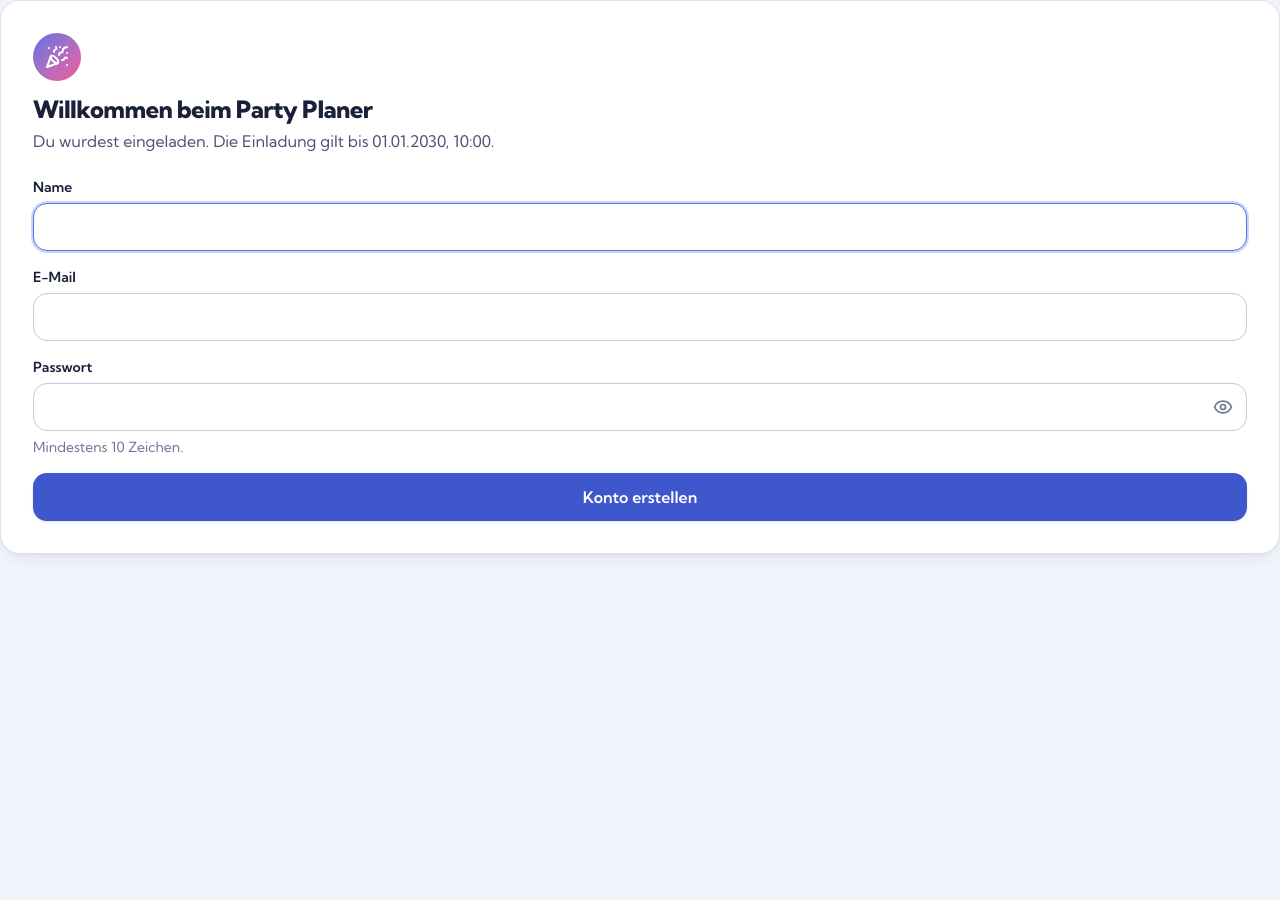
Test: InviteAccept › keeps the form and shows the reason when the address is taken
In the field labelled "Name": (640, 227) [33, 203, 1247, 251], type "N"
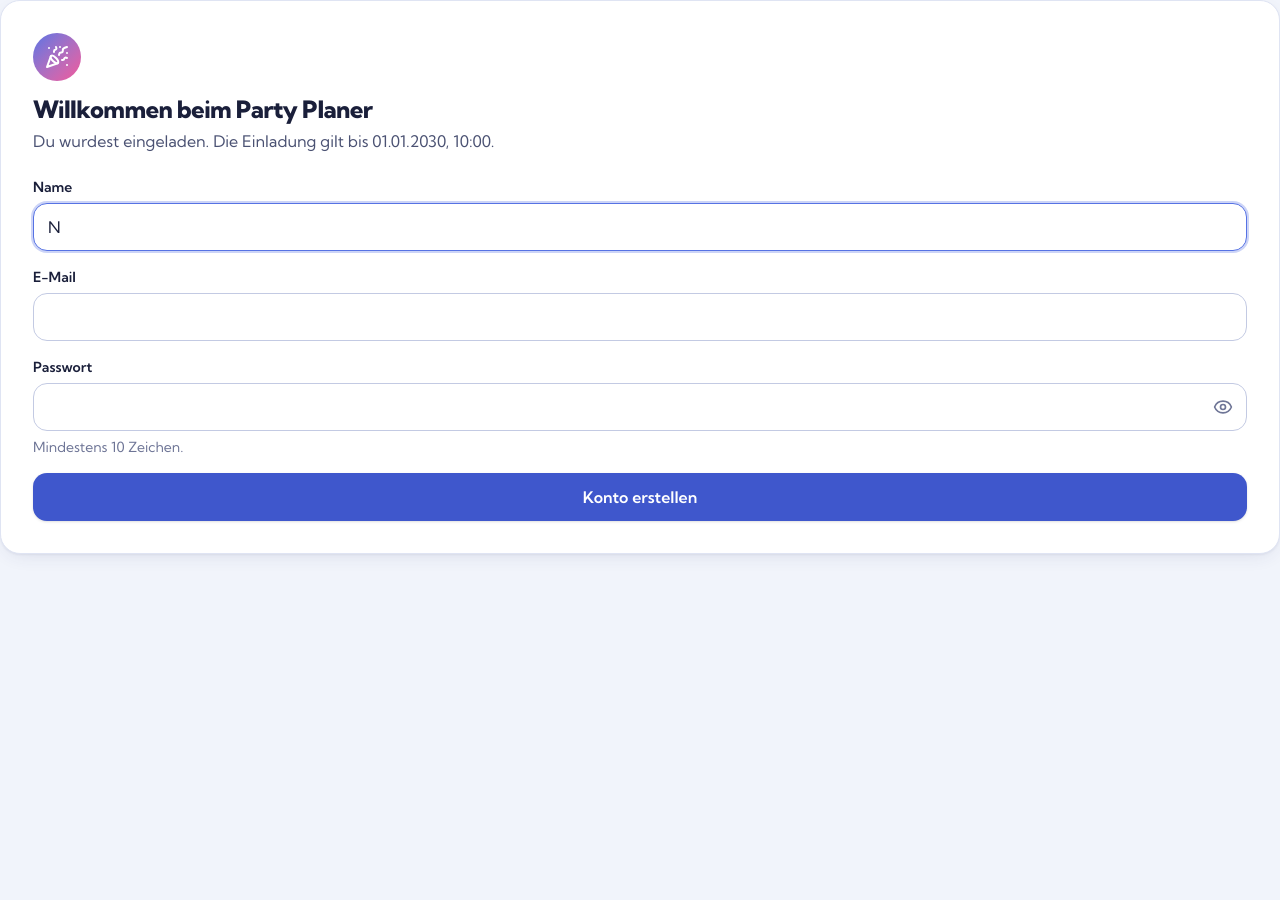
In the field labelled "E-Mail": (640, 317) [33, 293, 1247, 341], type "taken@example.com"
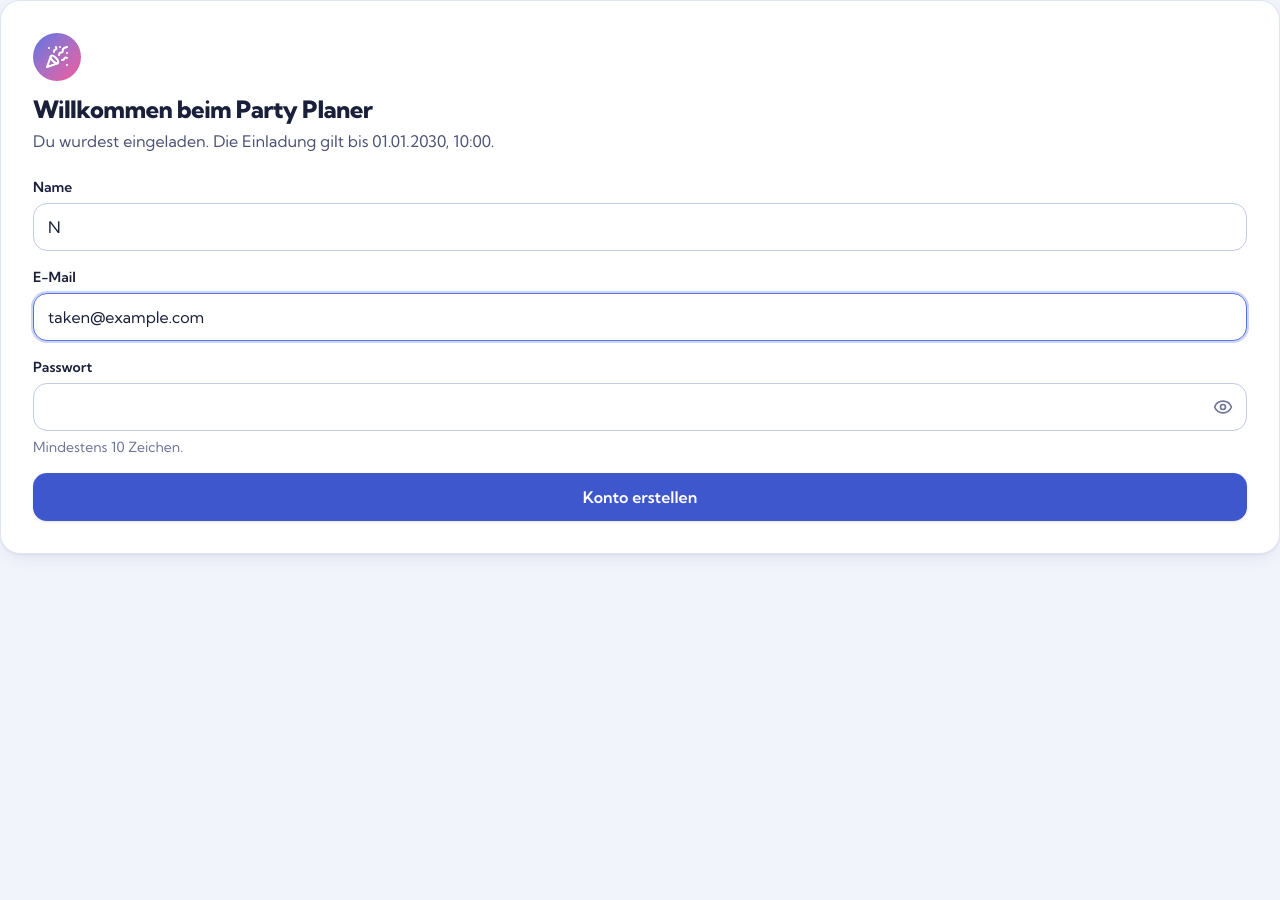
In the password field labelled "Passwort": (640, 407) [33, 383, 1247, 431], type "a long enough password"
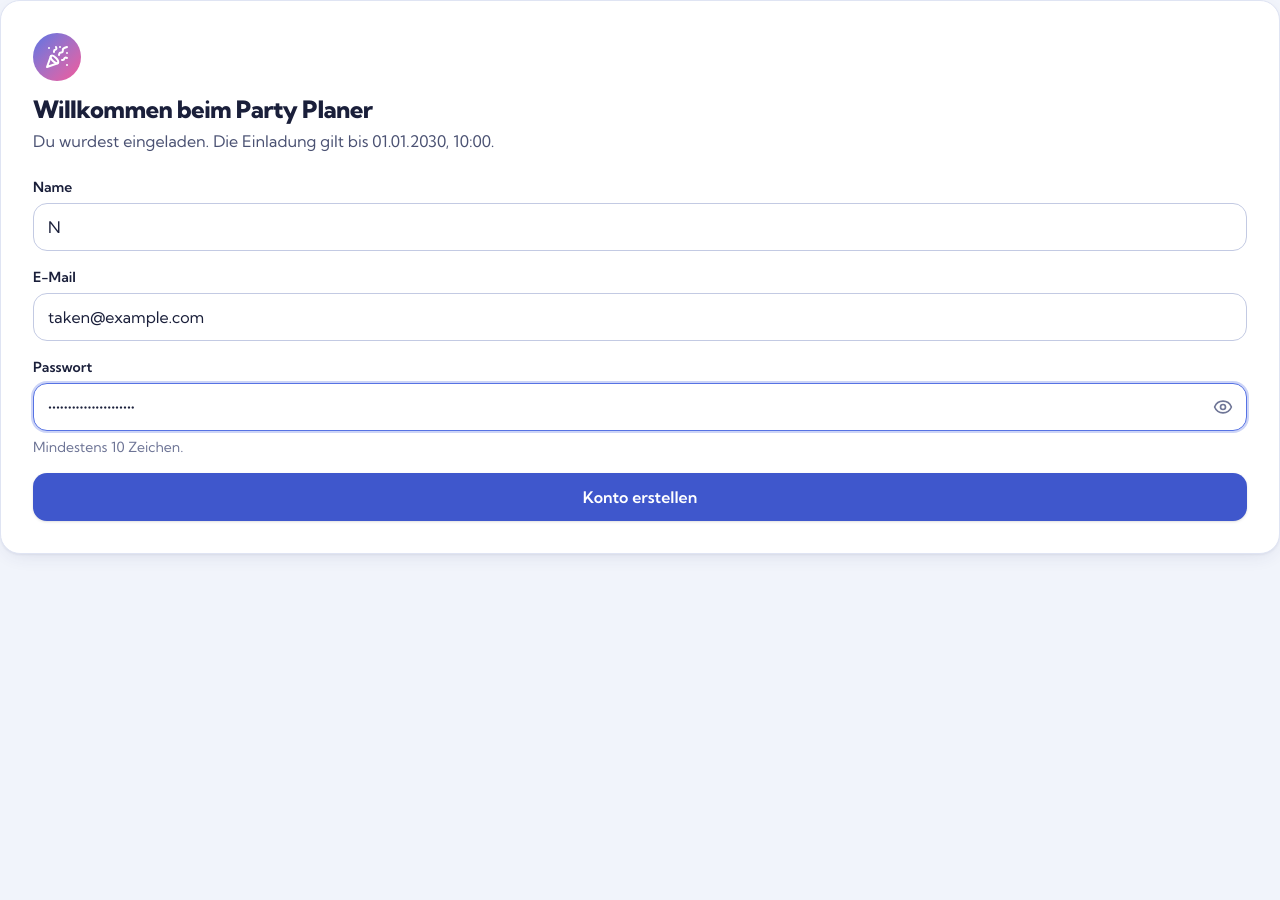
Click the button "Konto erstellen": (640, 497) [33, 473, 1247, 521]
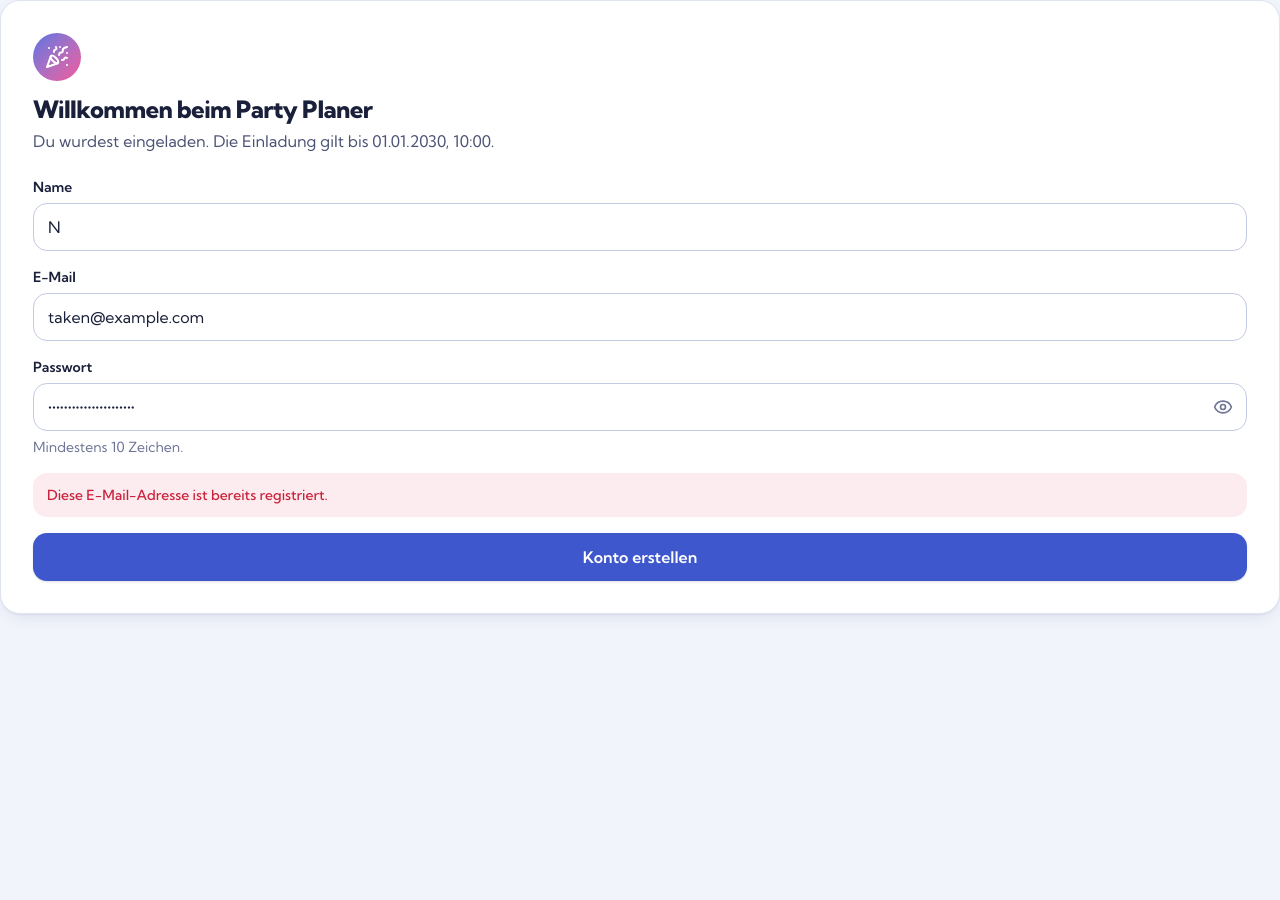
Expected: the message shows "bereits registriert", [47, 486, 328, 504]
